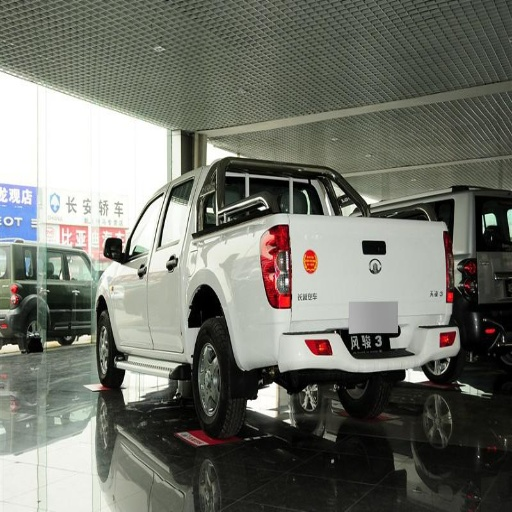back_bumper: (253, 307, 457, 377)
back_glass: (293, 176, 361, 213)
back_left_light: (259, 226, 292, 307)
trunk: (267, 218, 450, 347), (177, 227, 272, 367)
